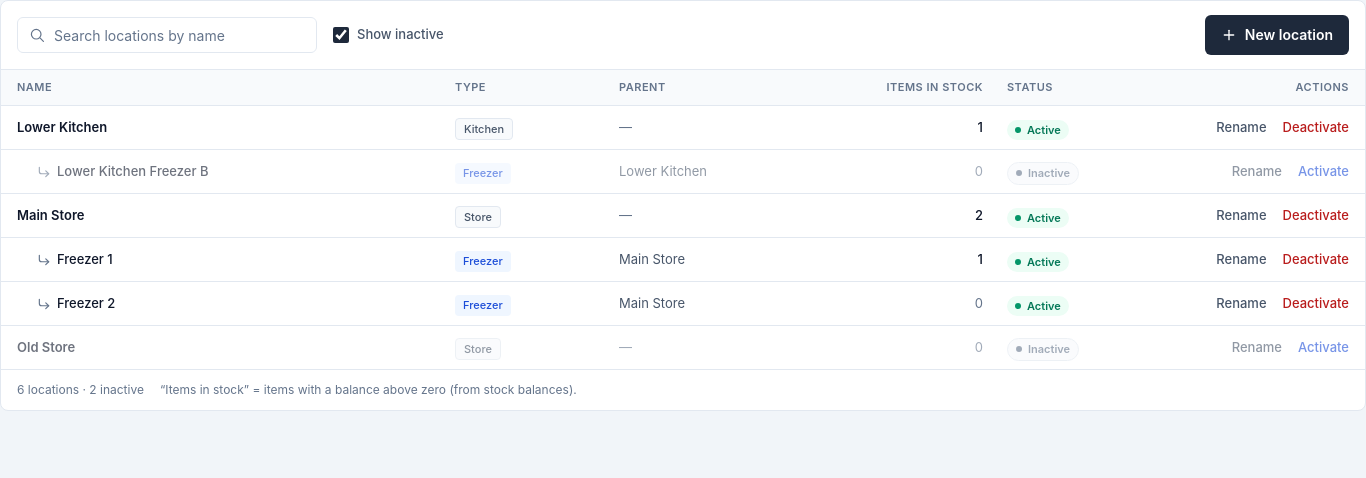
it: StockLocationsPage (UI-STOCK-002, desktop) › activates directly and reports 409 PARENT_INACTIVE in a banner
What coordinates should you click on to do the following:
click the button "Activate" in the row of "Lower Kitchen Freezer B"
I would click on:
 (1324, 172)
Its box is [1298,162,1349,181].
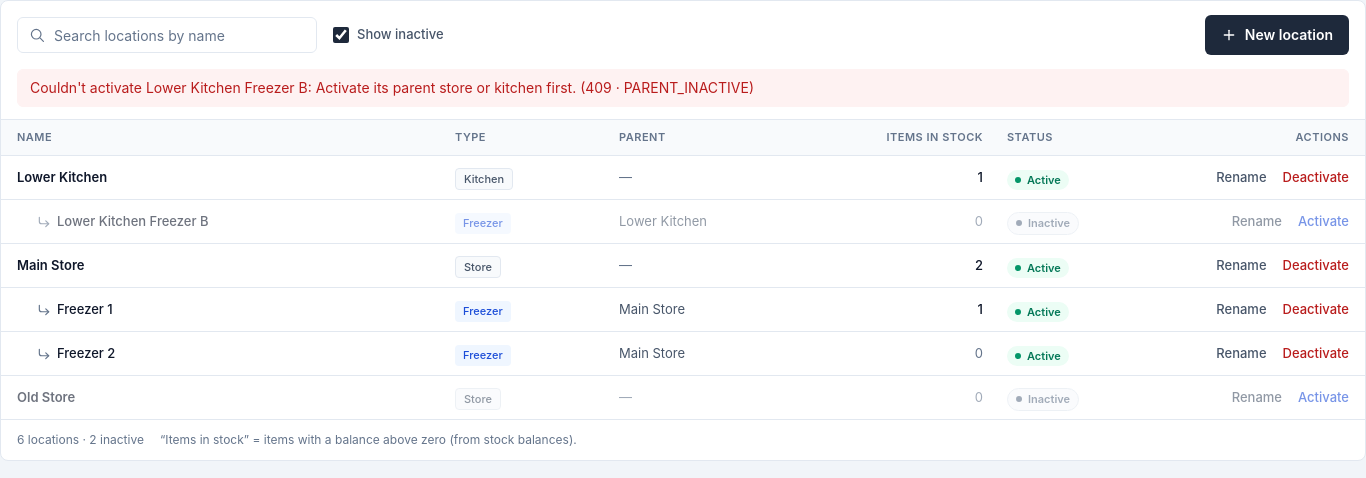
expect the message shows "Couldn't activate Lower Kitchen Freezer B: Activate its parent store or kitchen first. (409 · PARENT_INACTIVE)": met, box [30,79,754,96]
